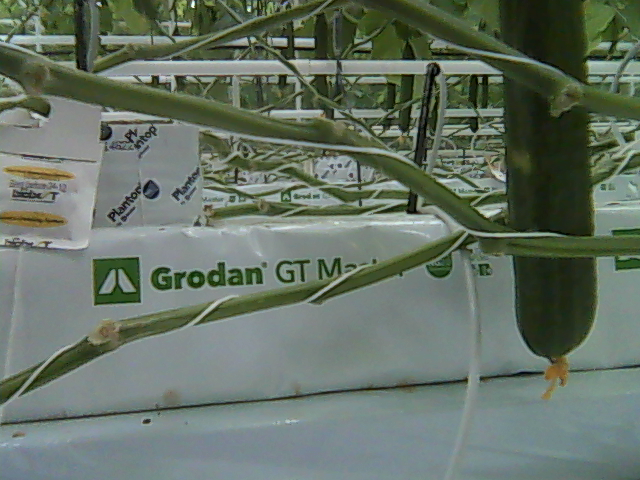concombre: (499, 1, 599, 400)
